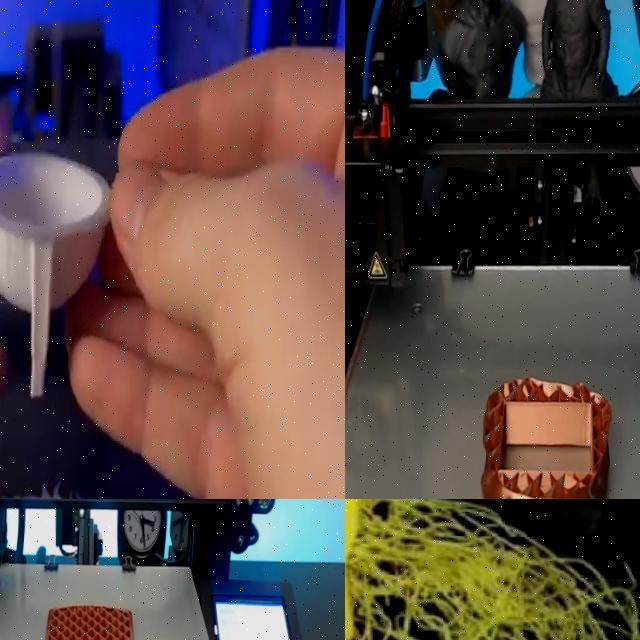spaghetti: (358, 499, 640, 640)
